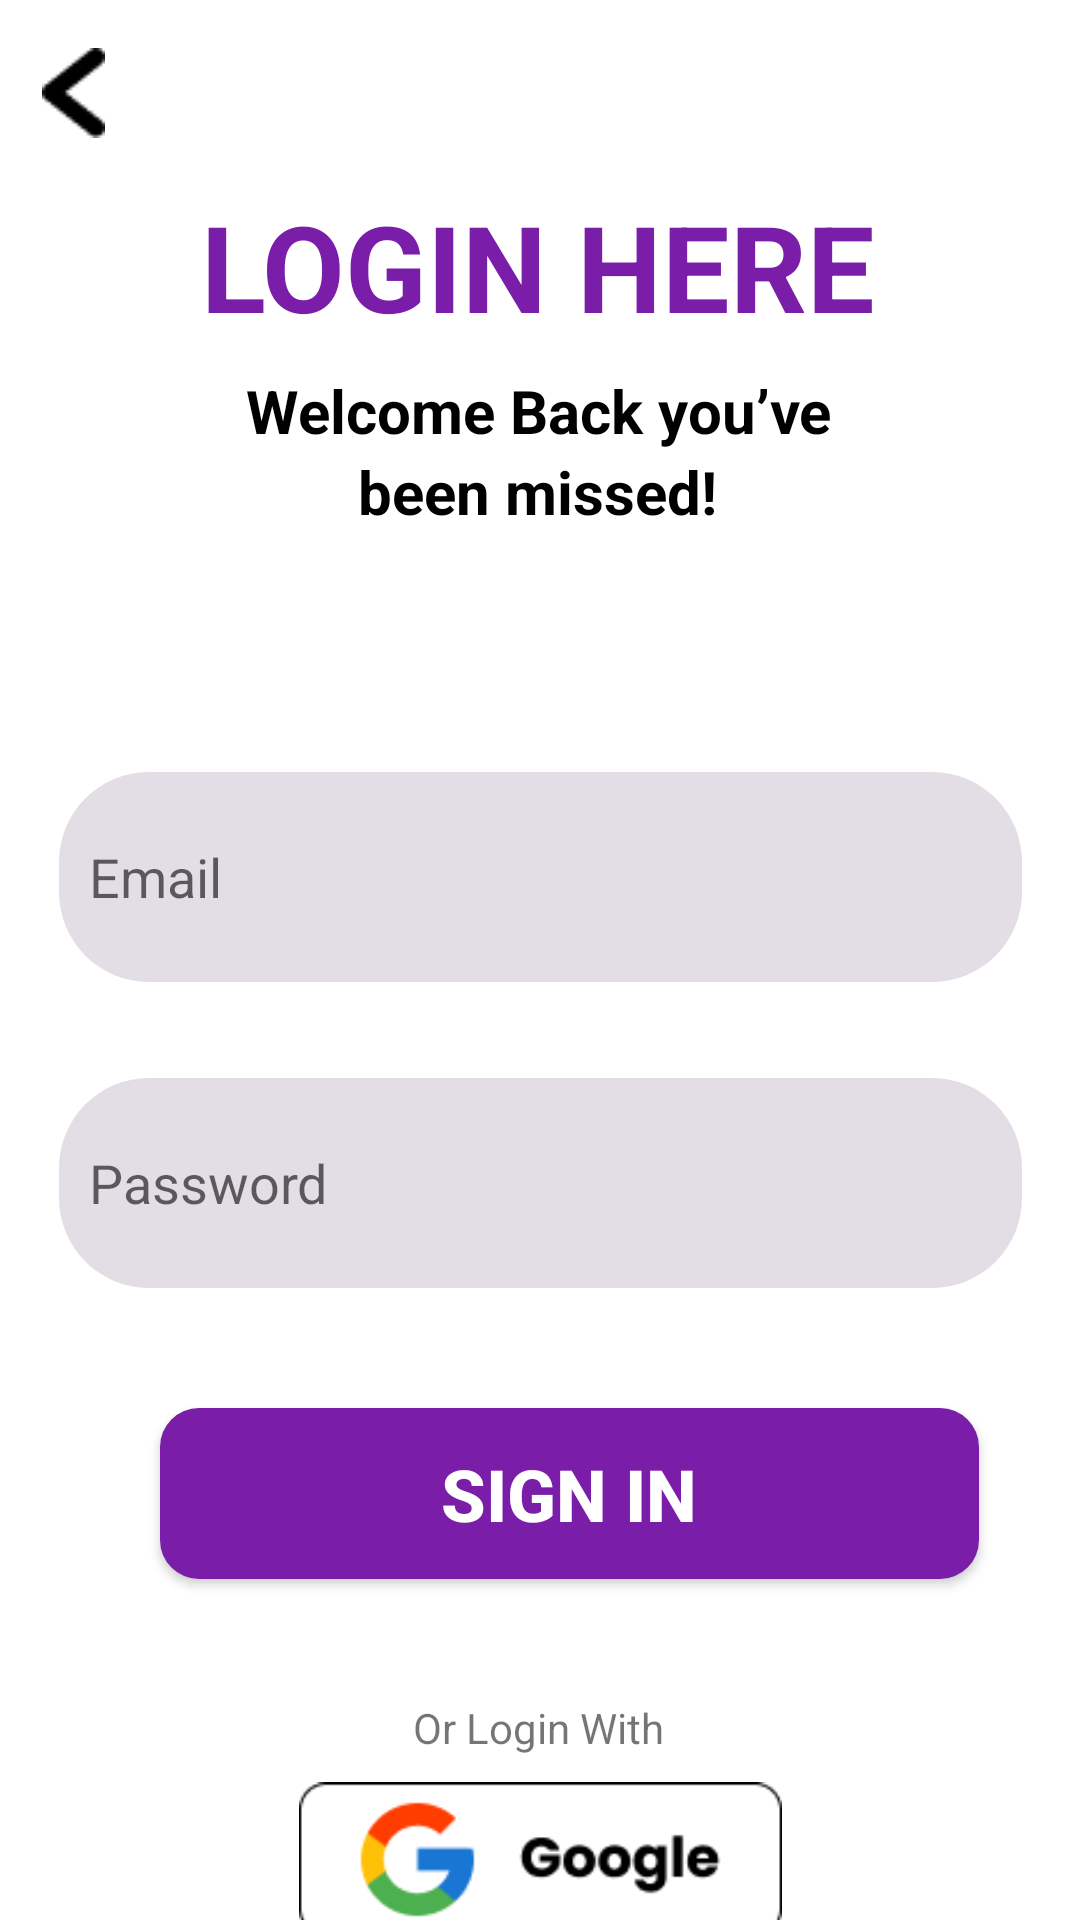

Named icons in this screenshot (1080px×1920px) and their centers, [x,y]:
arrow: [73,93]
